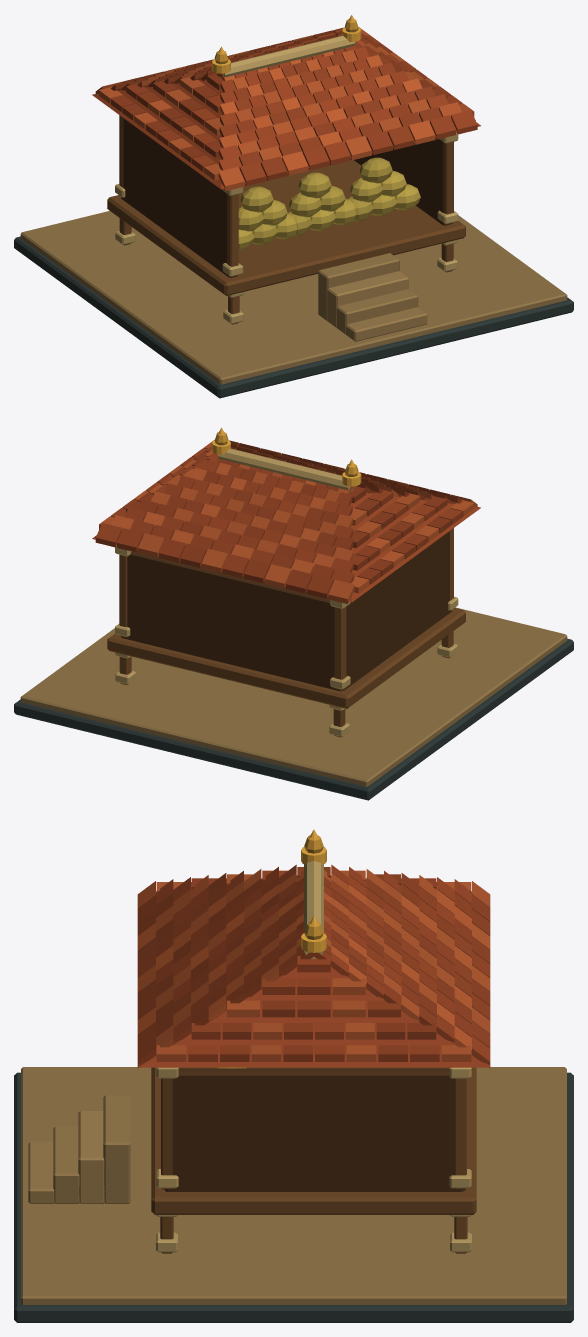
The picture shows the model from 3 angles, top to bottom: view 1: azimuth 30°, elevation 25°; view 2: azimuth 150°, elevation 25°; view 3: azimuth 270°, elevation 25°; orthographic projection. The views are drawn at different scales.
Visible parts, largest first — view 1: granary_2_structure; view 2: granary_2_structure; view 3: granary_2_structure, granary_2_metal.
Part boxes in pixels (x1=…): granary_2_structure: x1=14, y1=19, x2=573, y2=398; granary_2_structure: x1=14, y1=432, x2=573, y2=800; granary_2_structure: x1=14, y1=835, x2=573, y2=1322; granary_2_metal: x1=301, y1=829, x2=326, y2=952.
Size of the model in its own units: 5.6 by 3.68 by 5.6.
